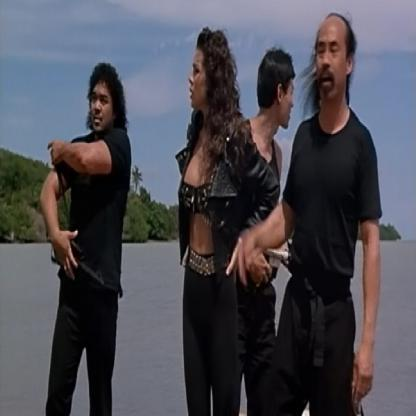Guns: (47, 224, 110, 297)
